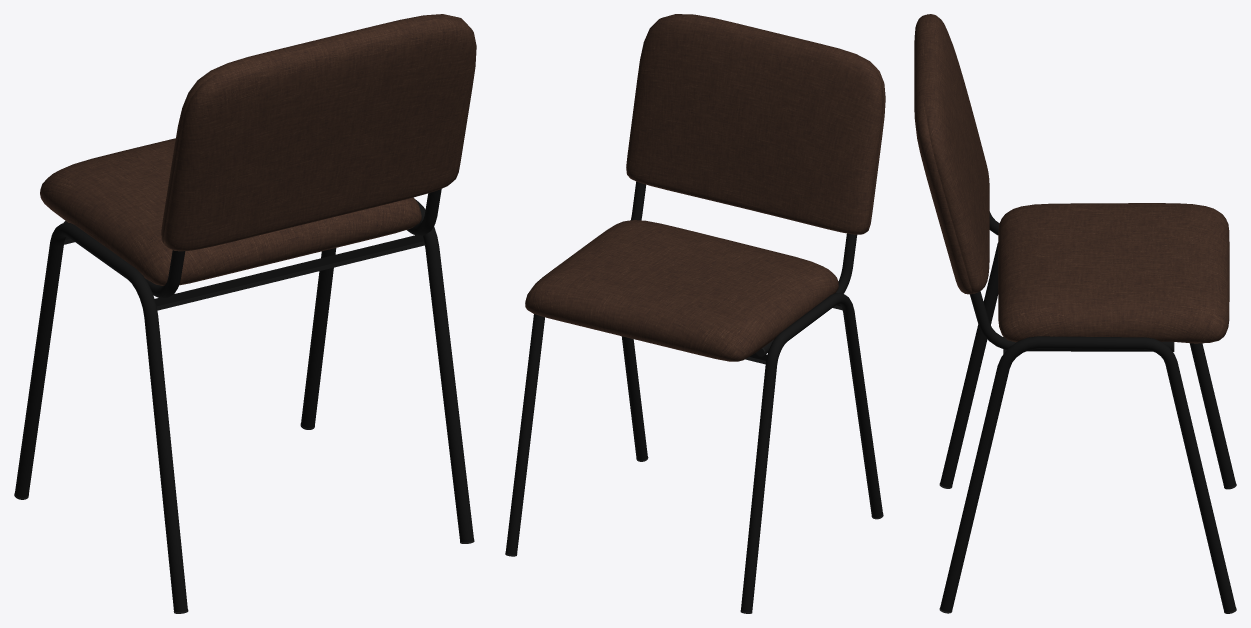
The model's file is silla-inter.glb.
3 renders of one model, left to right at view 1: azimuth 30°, elevation 25°; view 2: azimuth 150°, elevation 25°; view 3: azimuth 270°, elevation 25°, orthographic. The views are drawn at different scales.
Parts seen in each view (by area): view 1: ESPALDA, ASIENTO, patas.001, cuadrado, espalda; view 2: ESPALDA, ASIENTO, patas.001, espalda; view 3: ASIENTO, ESPALDA, patas.001, espalda.
Part boxes in pixels (x1,y1,x2,y2): ESPALDA: (161,14,476,251); ASIENTO: (40,138,421,285); patas.001: (15,199,473,611); cuadrado: (154,235,425,310); espalda: (65,189,441,298); ESPALDA: (626,14,885,234); ASIENTO: (525,220,838,361); patas.001: (505,293,882,612); espalda: (631,181,857,354); ASIENTO: (998,203,1229,343); ESPALDA: (914,14,989,294); patas.001: (940,242,1235,612); espalda: (970,211,1172,351).
Bounding box in the file's own units: 0.606 × 1.06 × 0.6353.
Materials: 3 (1 with a texture image).
